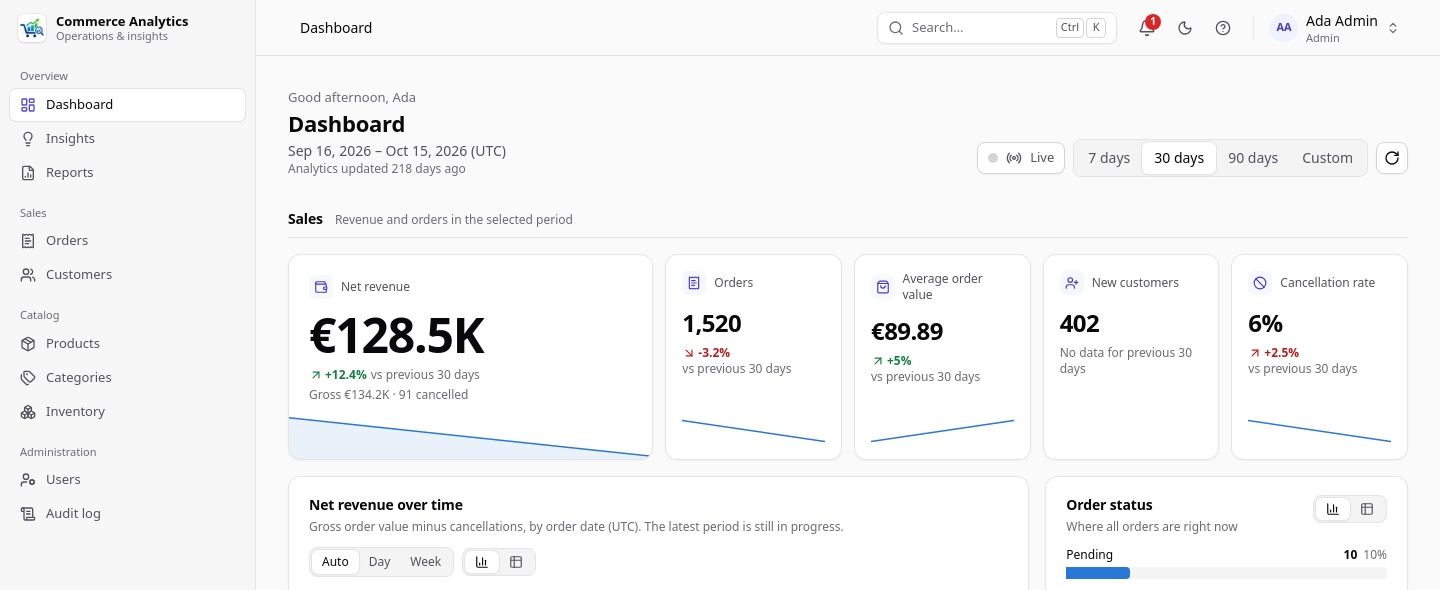
Test: app shell › closes the account menu with Escape and returns focus to its button
This screenshot has width=1440, height=590.
Click the button with aria-label "Account menu" at {"x": 1337, "y": 28}, box x1=1266 y1=7 x2=1408 y2=48
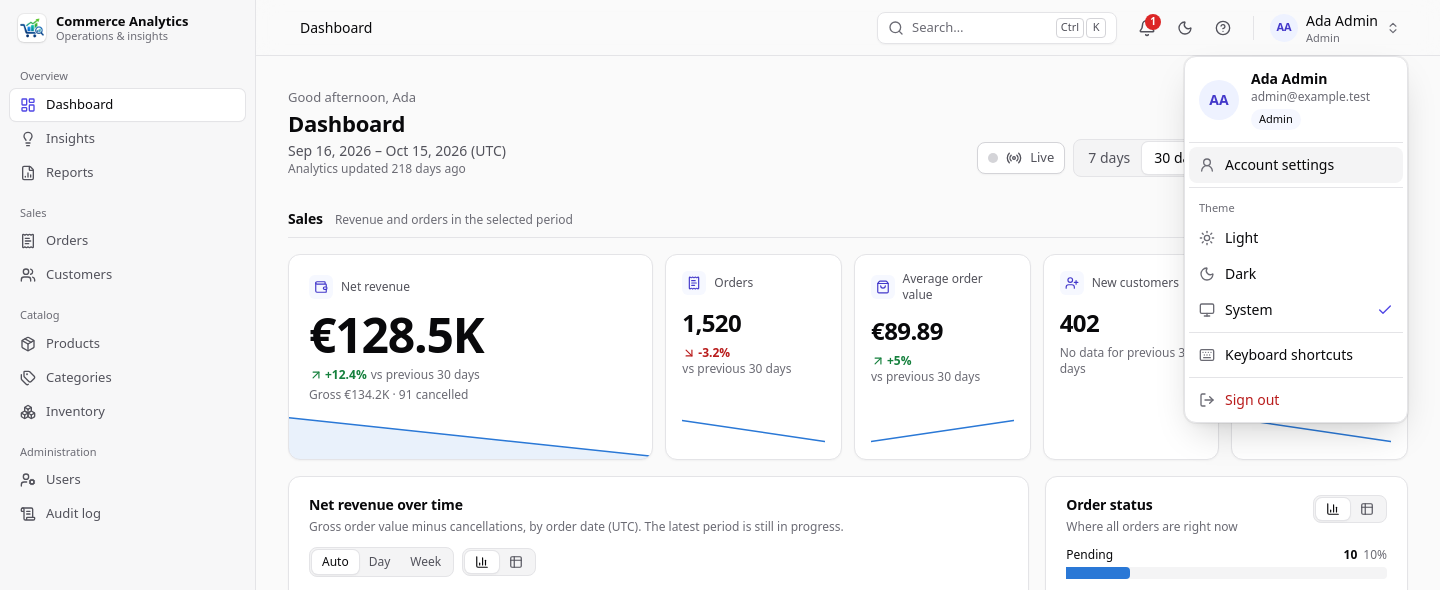
Press Arrowdown
Press Arrowup Arrowup
Press Escape
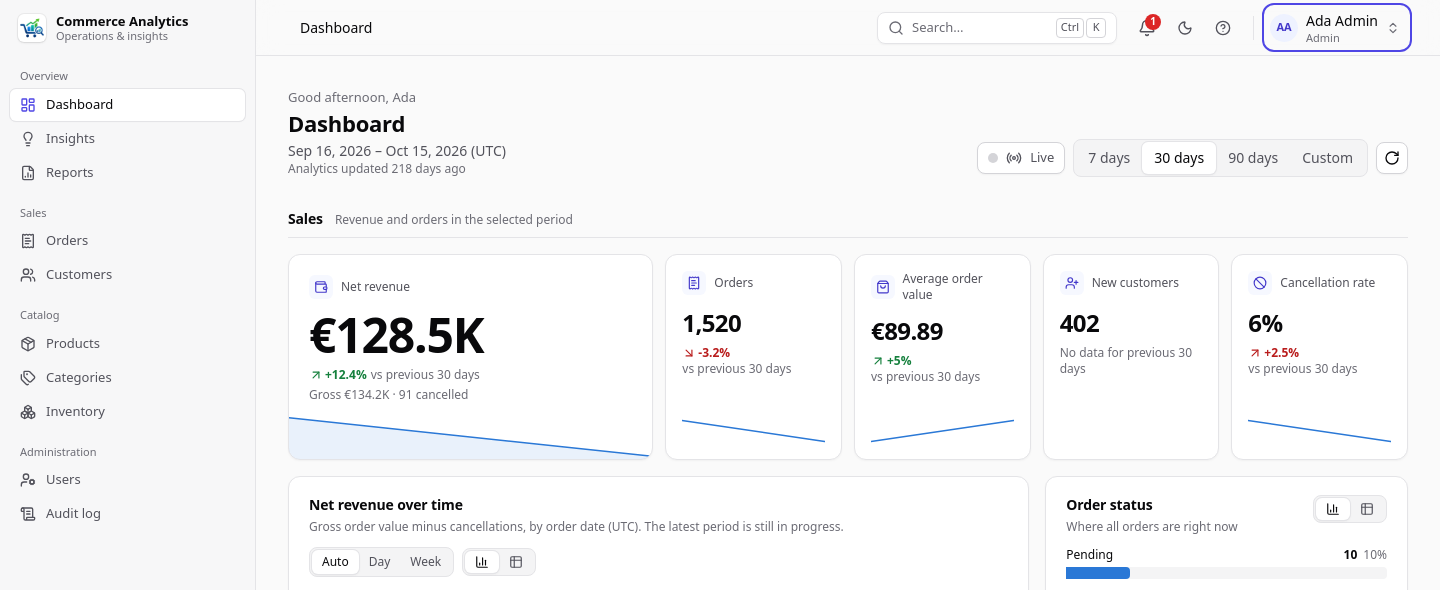
Result: the menu is gone
